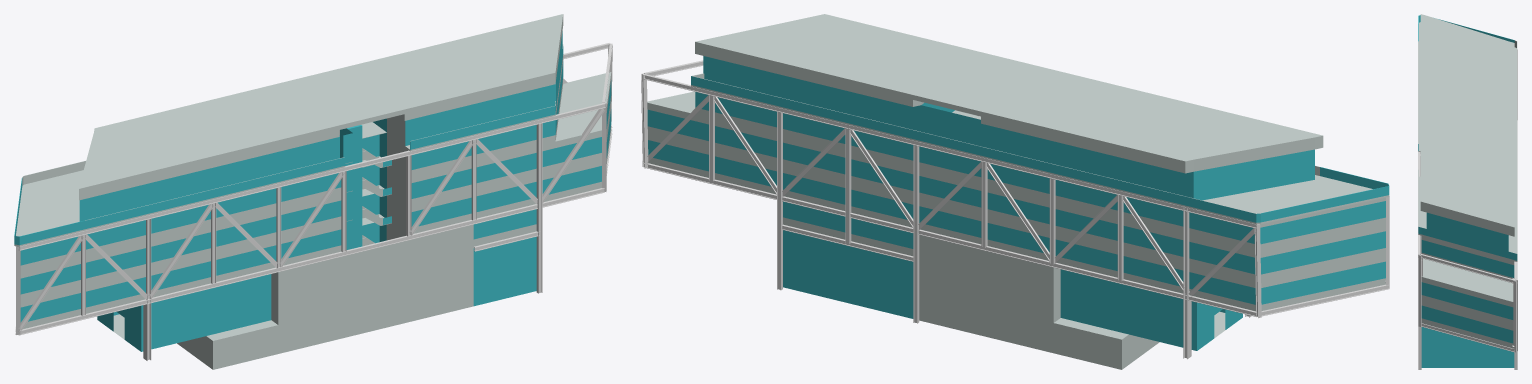
Rendered from PruebaNormales3.fbx.
3 views of the same model, side by side, from view 1: azimuth 30°, elevation 25°; view 2: azimuth 150°, elevation 25°; view 3: azimuth 270°, elevation 25° (orthographic). The views are drawn at different scales.
Visible parts, largest first — view 1: Cube.017, Cube.004, Cube.010, Cube.018, Cube.005, Cube.033, Cube.042, Cube.040, Cube.041, Cube.043, Cube.045, Cube.047 (+2 smaller); view 2: Cube.017, Cube.003, Cube.009, Cube.023, Cube.002, Cube.025, Cube.037, Cube.024, Cube.001, Cube.032, Cube.031, Cube.044 (+4 smaller); view 3: Cube.017, Cube.028, Cube.007, Cube.027, Cube.010, Cube.019, Cube.009, Cube.018.
Boxes of the visible parts, left/top/right/bottom form: Cube.017: left=14, top=14, right=611, bottom=369; Cube.004: left=19, top=188, right=604, bottom=335; Cube.010: left=19, top=103, right=605, bottom=250; Cube.018: left=536, top=123, right=542, bottom=293; Cube.005: left=143, top=219, right=151, bottom=360; Cube.033: left=542, top=108, right=604, bottom=202; Cube.042: left=279, top=172, right=344, bottom=266; Cube.040: left=18, top=236, right=83, bottom=330; Cube.041: left=148, top=204, right=213, bottom=298; Cube.043: left=409, top=140, right=474, bottom=235; Cube.045: left=83, top=234, right=148, bottom=299; Cube.047: left=474, top=139, right=537, bottom=204; Cube.017: left=647, top=14, right=1389, bottom=369; Cube.003: left=643, top=163, right=1257, bottom=316; Cube.009: left=643, top=74, right=1256, bottom=228; Cube.023: left=913, top=144, right=919, bottom=323; Cube.002: left=1183, top=207, right=1191, bottom=359; Cube.025: left=777, top=111, right=782, bottom=290; Cube.037: left=782, top=224, right=913, bottom=261; Cube.024: left=845, top=127, right=851, bottom=243; Cube.001: left=1261, top=284, right=1389, bottom=316; Cube.032: left=850, top=130, right=913, bottom=227; Cube.031: left=986, top=163, right=1049, bottom=261; Cube.044: left=714, top=96, right=776, bottom=194; Cube.017: left=1418, top=14, right=1517, bottom=367; Cube.028: left=1420, top=254, right=1514, bottom=283; Cube.007: left=1421, top=323, right=1514, bottom=352; Cube.027: left=1513, top=280, right=1517, bottom=352; Cube.010: left=1418, top=24, right=1420, bottom=257; Cube.019: left=1418, top=254, right=1422, bottom=326; Cube.009: left=1515, top=49, right=1517, bottom=283; Cube.018: left=1418, top=235, right=1421, bottom=369.
Size of the model in its own units: 10088 by 3167 by 1648.
